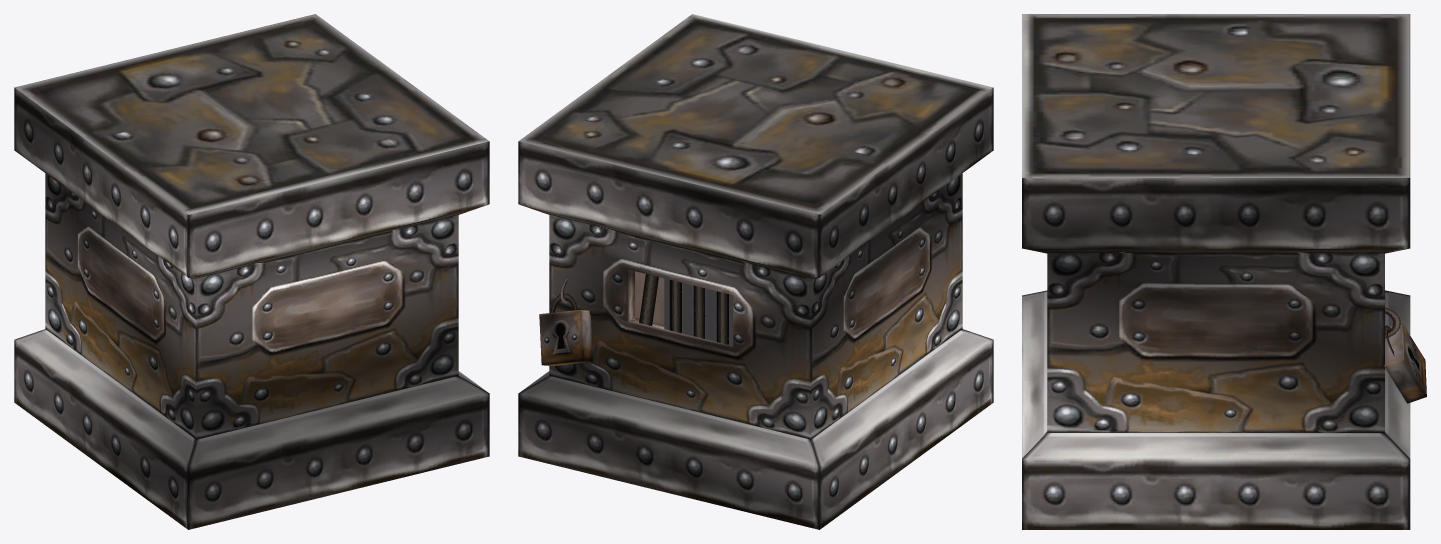
Rendered from cage02.obj.
3 views of the same model, side by side, from view 1: azimuth 30°, elevation 25°; view 2: azimuth 150°, elevation 25°; view 3: azimuth 270°, elevation 25° (orthographic). The views are drawn at different scales.
Parts seen in each view (by area): view 1: CAGE021, CAGE022; view 2: CAGE021, CAGE022, CAGE024, CAGE020; view 3: CAGE021, CAGE022, CAGE020.
Boxes of the visible parts, <box> form: CAGE021: <box>14,87,489,529</box>; CAGE022: <box>14,14,488,214</box>; CAGE021: <box>518,87,993,529</box>; CAGE022: <box>519,14,993,214</box>; CAGE024: <box>639,274,733,345</box>; CAGE020: <box>539,310,592,365</box>; CAGE021: <box>1022,178,1410,529</box>; CAGE022: <box>1022,14,1410,177</box>; CAGE020: <box>1384,322,1426,403</box>.
Bounding box in the file's own units: 2.83 × 2.83 × 2.95.
Materials: 5 (5 with a texture image).
